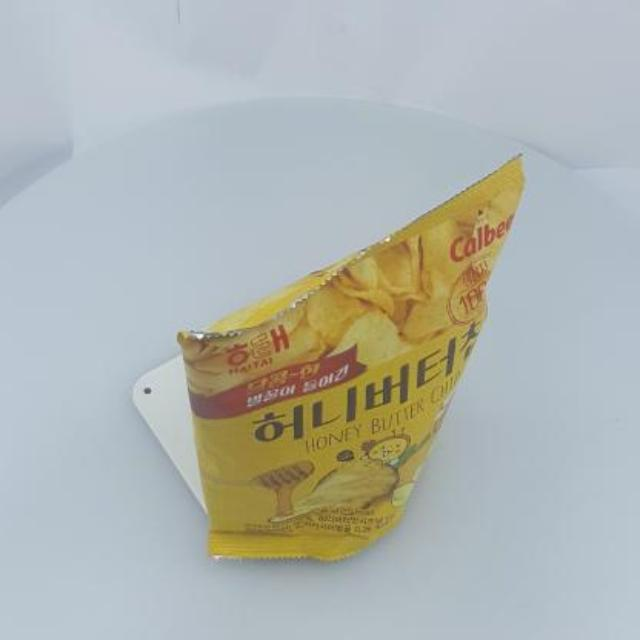snack_bag: (148, 144, 536, 580)
